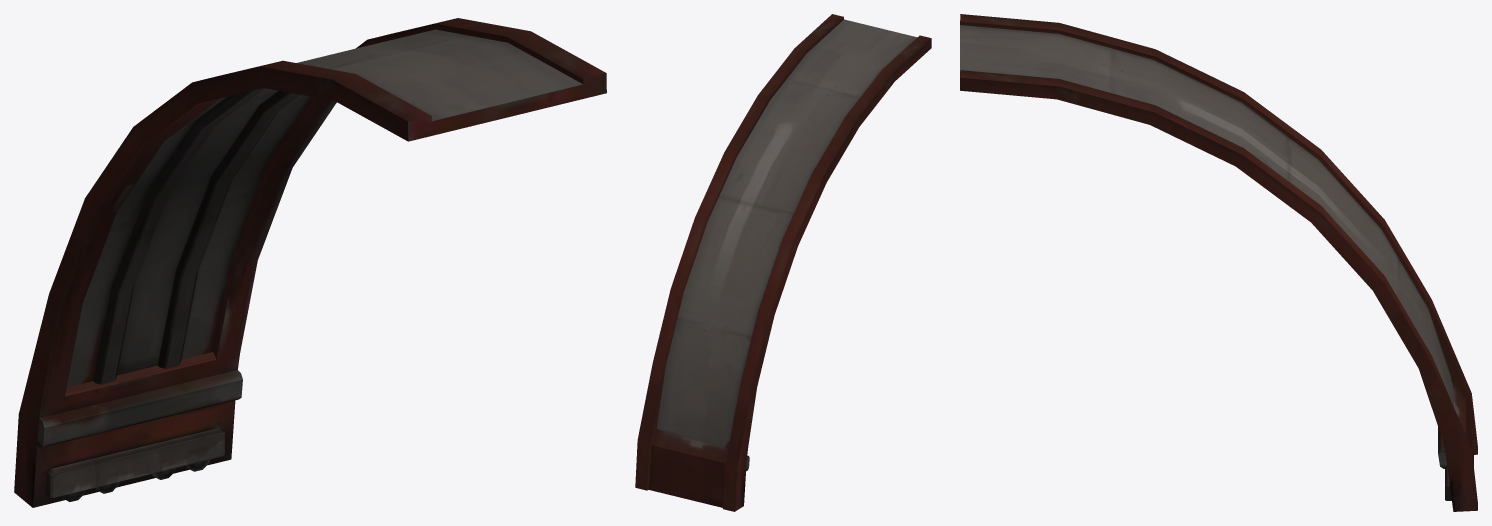
3 renders of one model, left to right at view 1: azimuth 30°, elevation 25°; view 2: azimuth 150°, elevation 25°; view 3: azimuth 270°, elevation 25°, orthographic. The views are drawn at different scales.
Parts seen in each view (by area): view 1: body0_model0_lod0_mesh0; view 2: body0_model0_lod0_mesh0; view 3: body0_model0_lod0_mesh0.
Boxes of the visible parts, x1=… form: body0_model0_lod0_mesh0: x1=14, y1=18, x2=606, y2=507; body0_model0_lod0_mesh0: x1=635, y1=14, x2=931, y2=511; body0_model0_lod0_mesh0: x1=960, y1=14, x2=1477, y2=511.
Bounding box in the file's own units: 14.66 × 46.62 × 50.39.
Materials: 1 (1 with a texture image).
